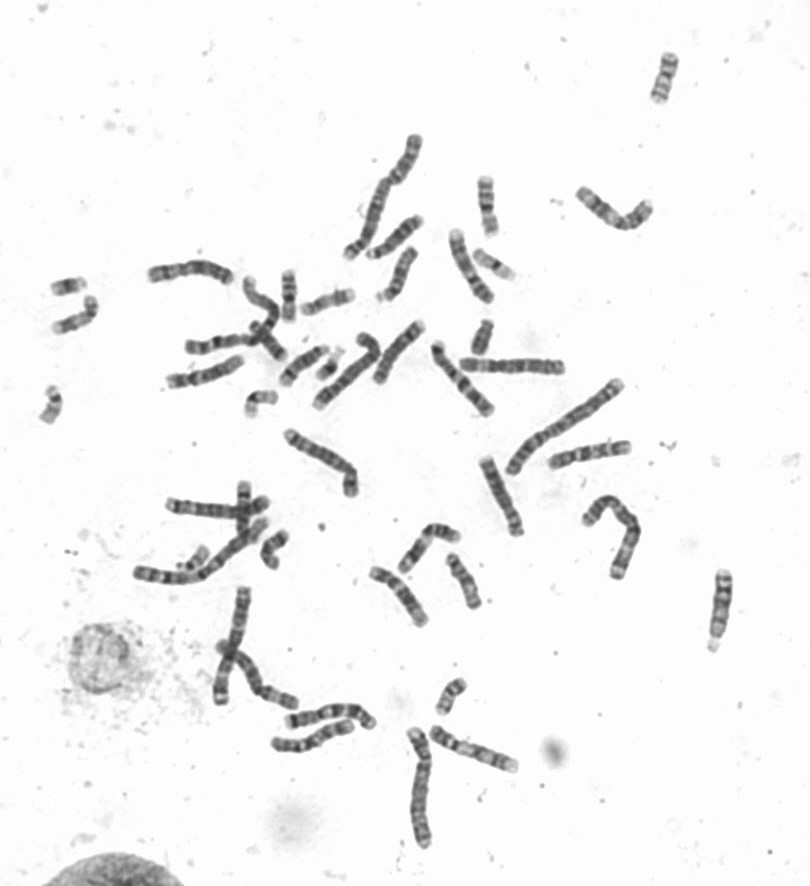chromosomes: (501, 376, 631, 479), (340, 131, 431, 266), (126, 519, 271, 588), (183, 273, 285, 361), (307, 329, 385, 415), (215, 634, 302, 710), (579, 492, 646, 588), (282, 427, 365, 501), (211, 584, 256, 713), (430, 335, 497, 420), (426, 722, 526, 778), (475, 450, 533, 545), (388, 517, 467, 579), (365, 316, 430, 391), (445, 224, 500, 310), (364, 562, 430, 631), (155, 352, 252, 396), (265, 714, 358, 759), (576, 182, 656, 234), (700, 564, 740, 656), (162, 490, 272, 523), (543, 437, 640, 473), (281, 700, 381, 733), (365, 211, 428, 263), (371, 245, 422, 309), (146, 255, 244, 288), (458, 354, 570, 382), (409, 726, 434, 851), (273, 341, 333, 393), (441, 550, 484, 614), (647, 48, 686, 110), (49, 291, 100, 337), (463, 246, 520, 287), (297, 285, 357, 320), (250, 317, 292, 366), (235, 476, 263, 548), (477, 173, 506, 239), (257, 528, 296, 574), (460, 317, 497, 363), (241, 387, 284, 425), (433, 675, 469, 719), (314, 344, 350, 388), (40, 380, 71, 430), (168, 539, 211, 573), (281, 265, 302, 327), (48, 277, 94, 297)
